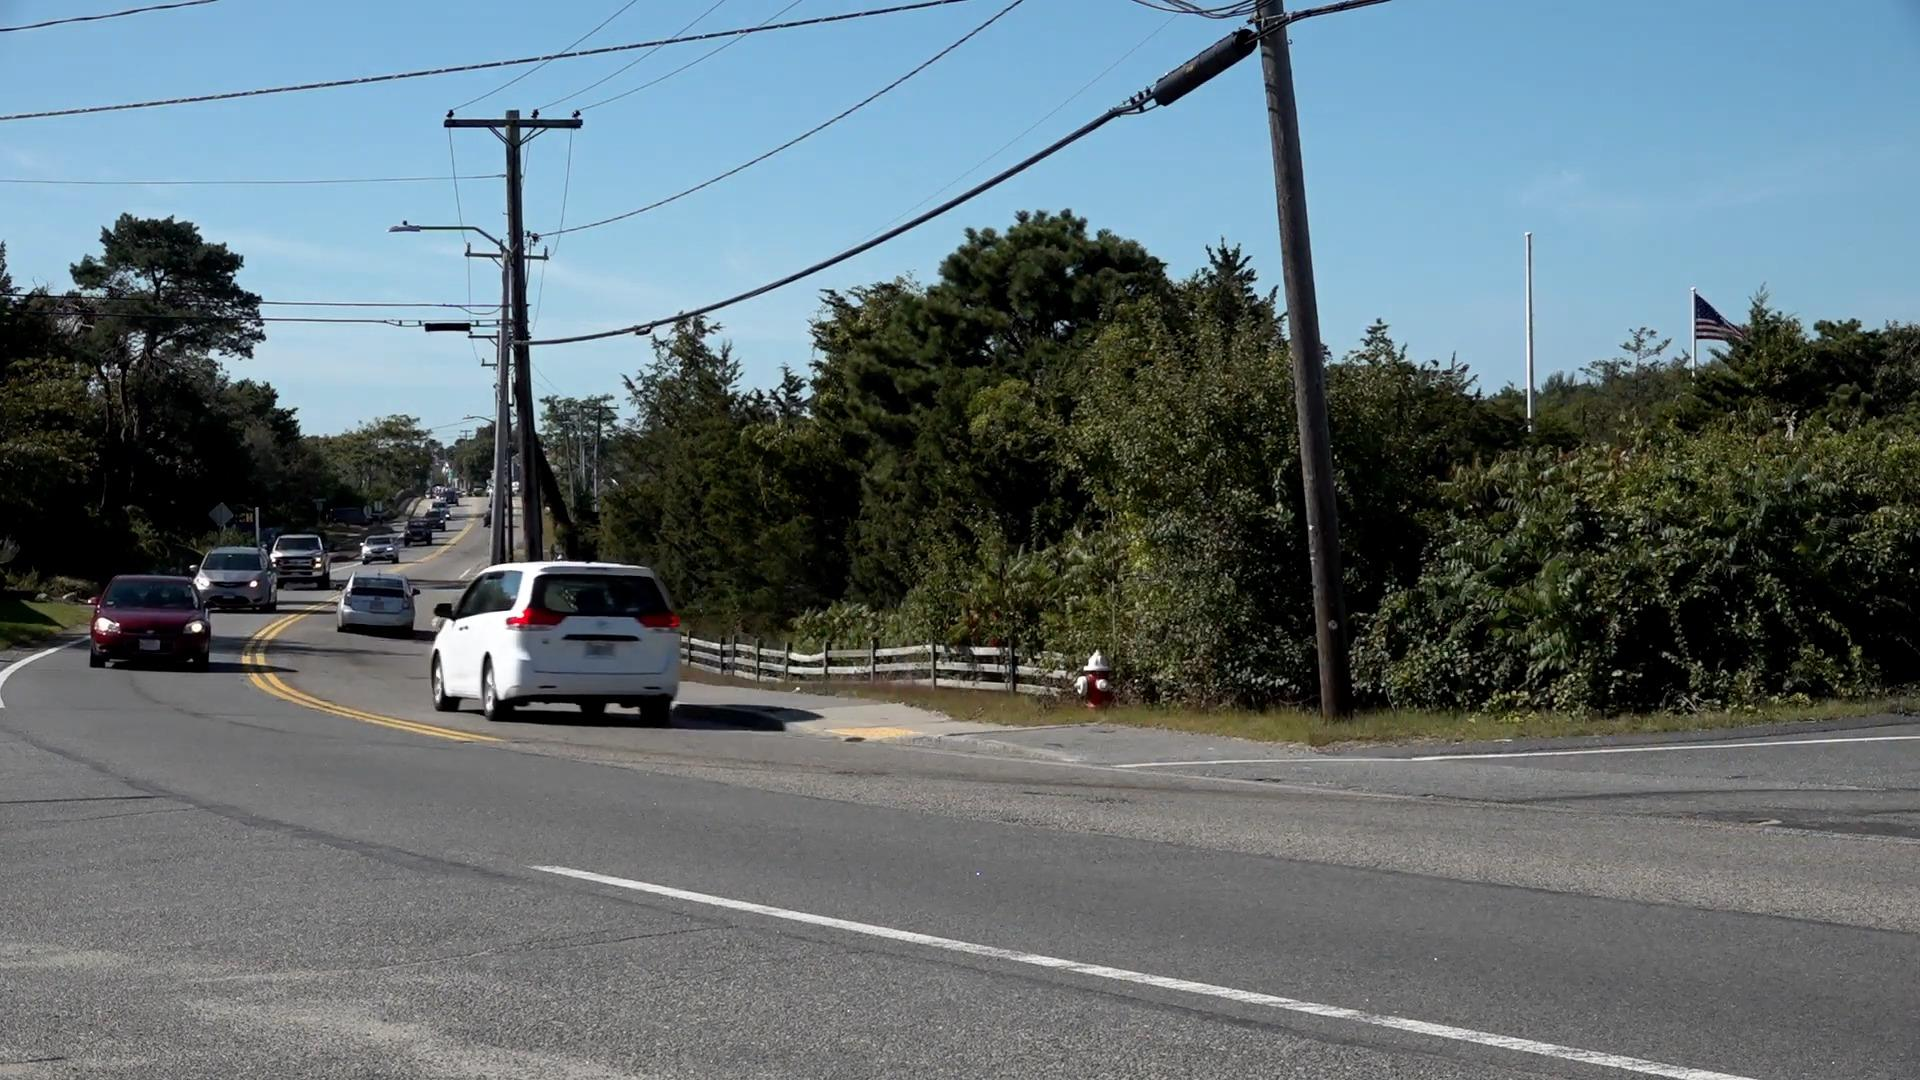minivan: (438, 555, 688, 738)
sedans: (86, 572, 220, 671)
suv: (339, 572, 418, 633)
